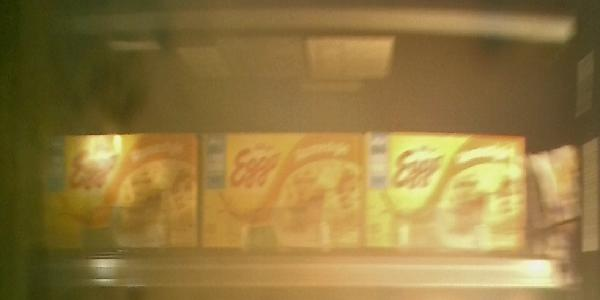icecream: (30, 131, 201, 250), (367, 132, 528, 254), (201, 133, 366, 251)
